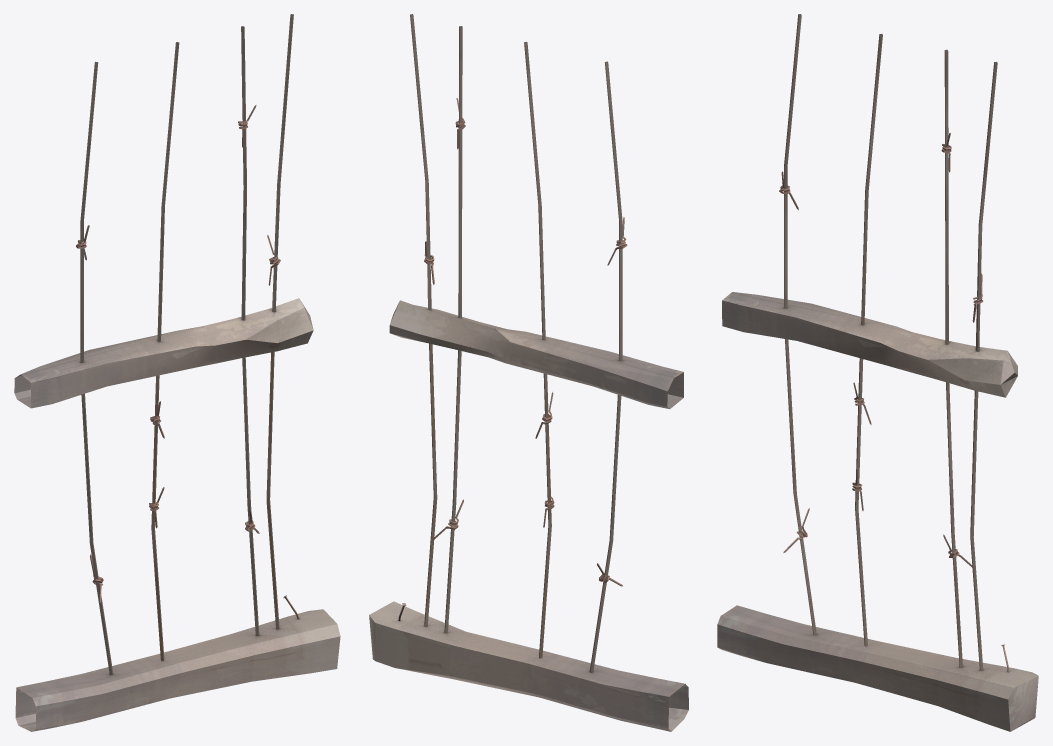
File: props_mining_barbfence001_reference.glb
3 views of the same model, side by side, from view 1: azimuth 30°, elevation 25°; view 2: azimuth 150°, elevation 25°; view 3: azimuth 330°, elevation 25° (orthographic).
Parts seen in each view (by area): view 1: models/props_mining/barbfence001_reference; view 2: models/props_mining/barbfence001_reference; view 3: models/props_mining/barbfence001_reference.
Part boxes in pixels (box(x1,y1,x2,y2)): models/props_mining/barbfence001_reference: box(14, 14, 340, 731); models/props_mining/barbfence001_reference: box(369, 14, 688, 731); models/props_mining/barbfence001_reference: box(717, 14, 1038, 731).
Size of the model in its own units: 64.11 by 131 by 10.59.
1 material, 1 textured.
